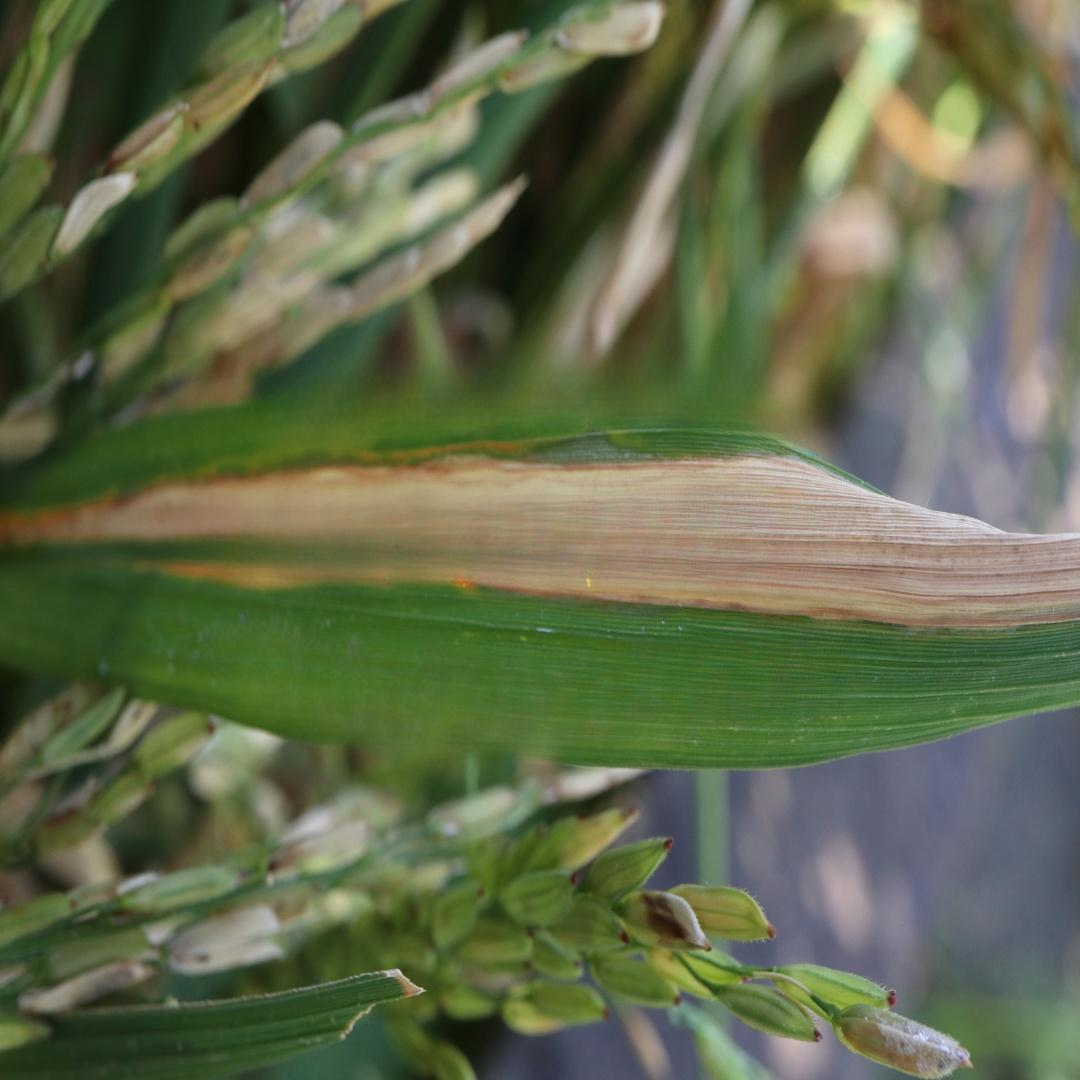BLB: (1, 451, 1079, 630)
LEAF: (0, 404, 1079, 768)
